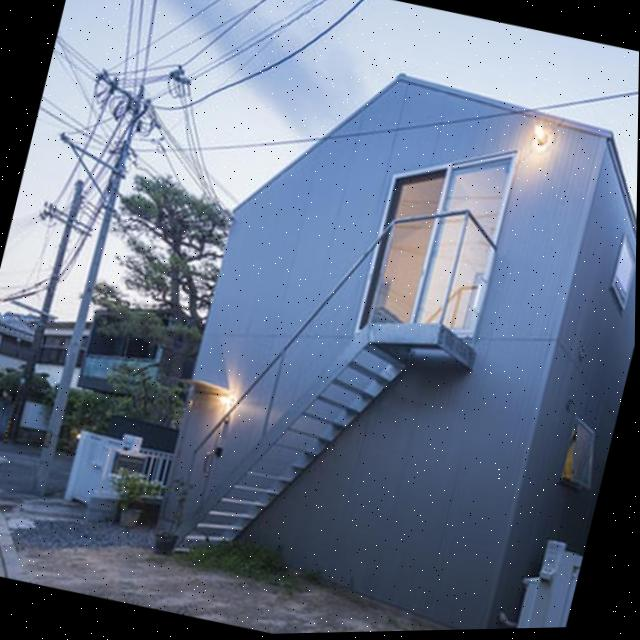building: (150, 36, 639, 636), (60, 288, 205, 445), (0, 291, 96, 399)
